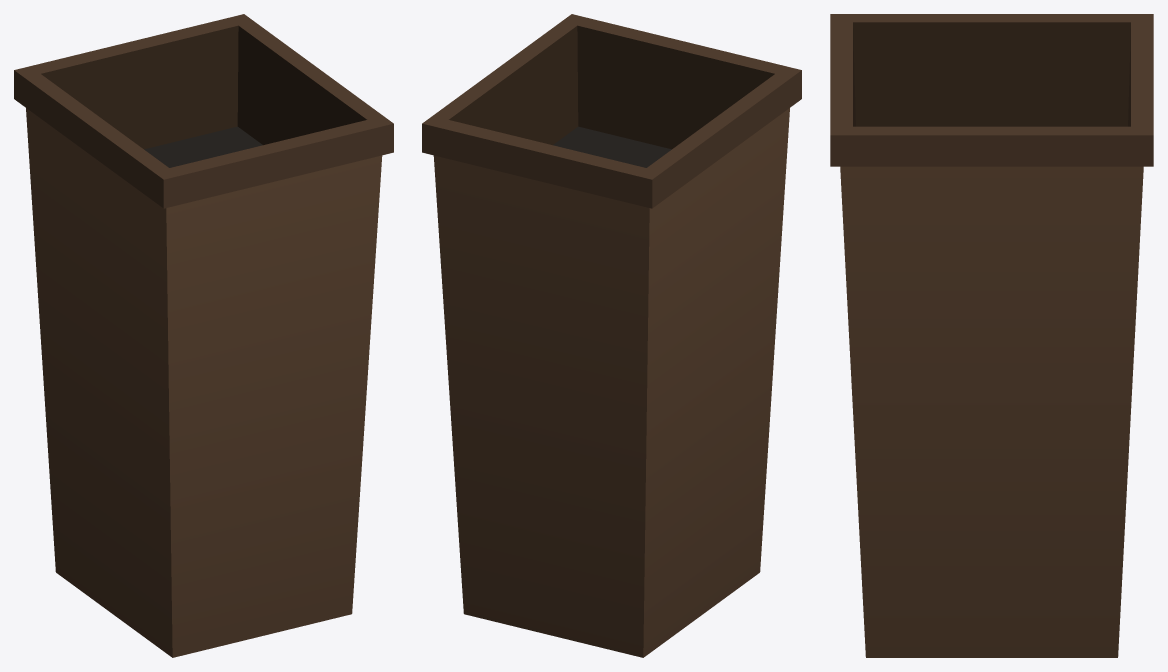
The model's file is bin.waste.rusty.glb.
3 renders of one model, left to right at view 1: azimuth 30°, elevation 25°; view 2: azimuth 150°, elevation 25°; view 3: azimuth 270°, elevation 25°, orthographic. The views are drawn at different scales.
Visible parts, largest first — view 1: bin_waste_rusty; view 2: bin_waste_rusty; view 3: bin_waste_rusty.
Boxes of the visible parts, bbox=[...] form: bin_waste_rusty: bbox=[14, 14, 393, 657]; bin_waste_rusty: bbox=[422, 14, 801, 657]; bin_waste_rusty: bbox=[830, 14, 1153, 657].
Size of what is drawn, in the model's own units: 0.291 by 0.6 by 0.328.
